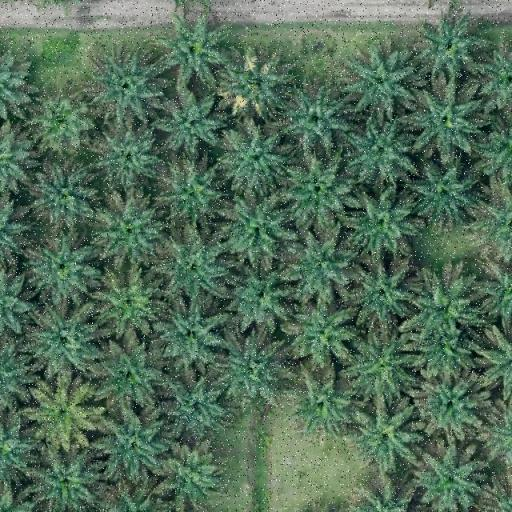Ganoderma: (36, 388, 89, 435)
